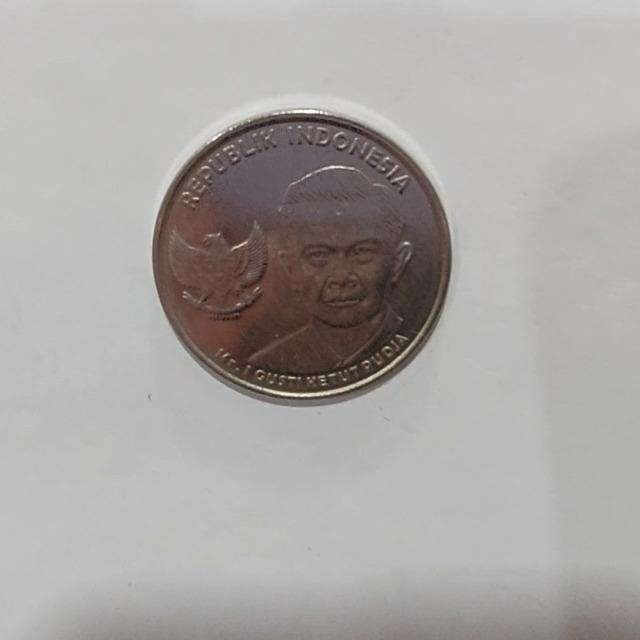Rp100: (151, 101, 453, 404)
